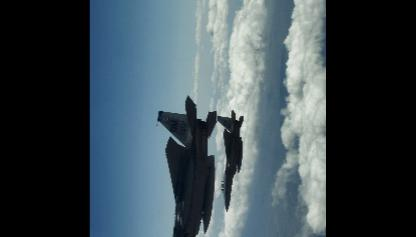F117: (156, 94, 218, 236), (216, 108, 242, 210)
